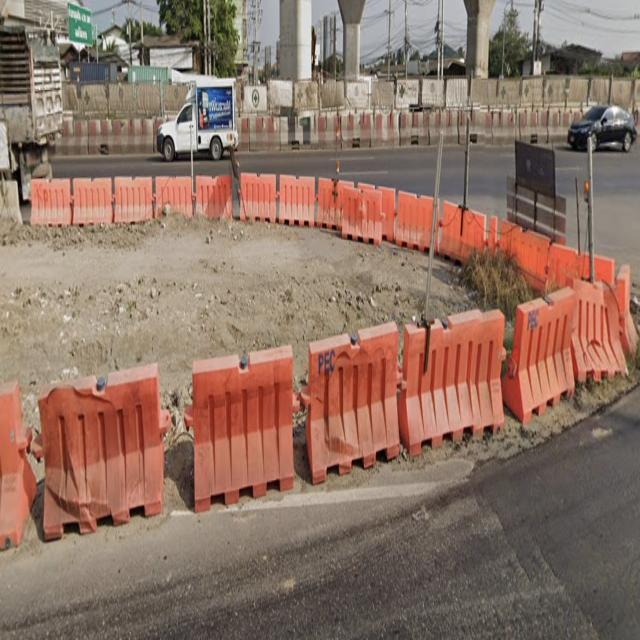fallen_object: (210, 139, 445, 253), (32, 367, 185, 539), (159, 345, 300, 520), (289, 307, 424, 486), (443, 187, 619, 308), (390, 302, 507, 456), (500, 263, 578, 442), (95, 147, 241, 232), (19, 173, 122, 229)
